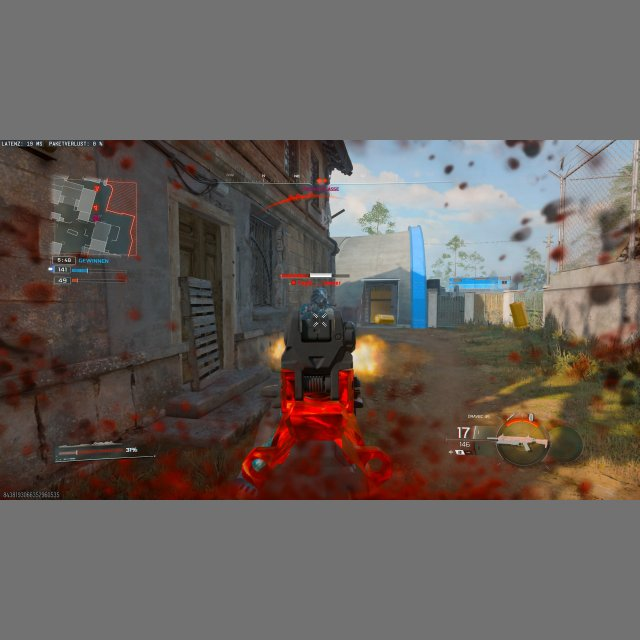head: (311, 288, 326, 303)
player: (301, 289, 329, 320)
